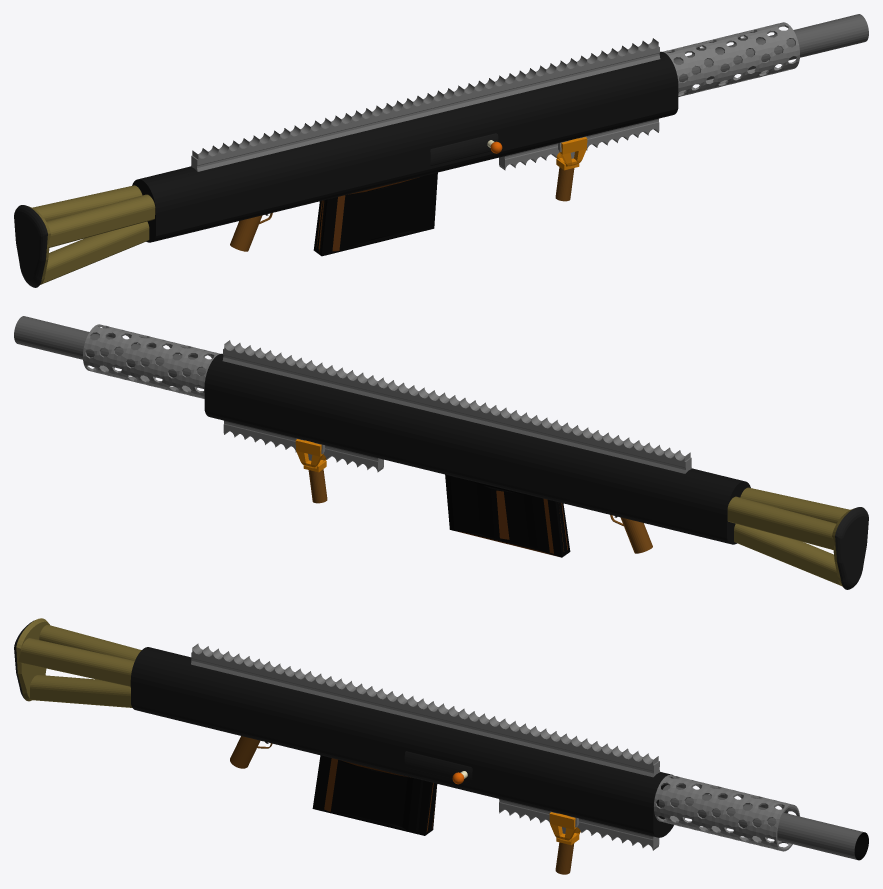
File: gon rifle not bathesda.fbx
3 renders of one model, top to bottom at view 1: azimuth 30°, elevation 25°; view 2: azimuth 150°, elevation 25°; view 3: azimuth 330°, elevation 25°, orthographic.
Visible parts, largest first — view 1: Body, Stock, Object, Magazine, James protector, Barrel, UnderObject, Snap component, Case ejector, Trigger; view 2: Body, Stock, Object, Magazine, James protector, Barrel, UnderObject, Snap component, Trigger; view 3: Body, Stock, Object, Magazine, James protector, Barrel, UnderObject, Snap component, Case ejector, Trigger.
Part boxes in pixels (left/top/right/bottom): Body: left=181, top=51, right=678, bottom=231; Stock: left=14, top=169, right=199, bottom=287; Object: left=191, top=38, right=660, bottom=171; Magazine: left=313, top=172, right=437, bottom=256; James protector: left=662, top=22, right=799, bottom=96; Barrel: left=673, top=14, right=868, bottom=82; UnderObject: left=499, top=118, right=659, bottom=170; Snap component: left=555, top=136, right=587, bottom=201; Case ejector: left=430, top=133, right=502, bottom=165; Trigger: left=230, top=213, right=272, bottom=251; Body: left=204, top=353, right=701, bottom=533; Stock: left=683, top=471, right=868, bottom=589; Object: left=222, top=340, right=691, bottom=473; Magazine: left=445, top=474, right=570, bottom=557; James protector: left=83, top=324, right=220, bottom=398; Barrel: left=14, top=316, right=205, bottom=388; UnderObject: left=223, top=420, right=383, bottom=472; Snap component: left=295, top=438, right=327, bottom=503; Trigger: left=610, top=515, right=652, bottom=553; Body: left=174, top=657, right=673, bottom=837; Stock: left=14, top=618, right=189, bottom=720; Object: left=191, top=643, right=660, bottom=777; Magazine: left=312, top=755, right=437, bottom=835; James protector: left=654, top=774, right=799, bottom=851; Barrel: left=658, top=785, right=868, bottom=860; UnderObject: left=499, top=799, right=659, bottom=850; Snap component: left=549, top=811, right=580, bottom=874; Case ejector: left=404, top=751, right=472, bottom=784; Trigger: left=230, top=736, right=272, bottom=768.
Bounding box in the file's own units: 16317 × 2553 × 1282.
